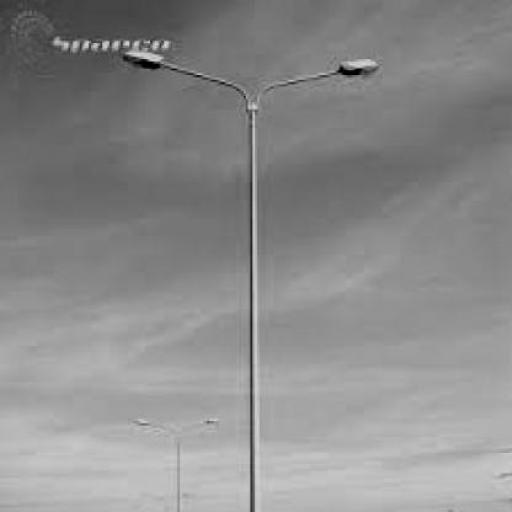street light: (123, 51, 380, 510)
